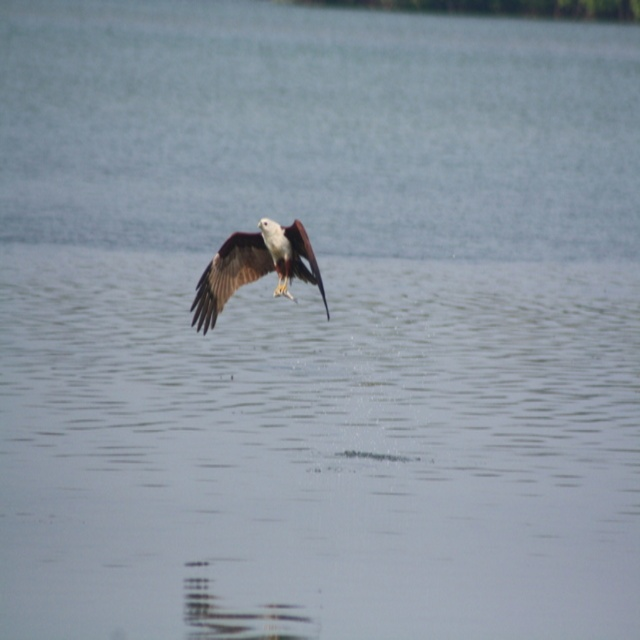Eagle: (190, 217, 328, 333)
